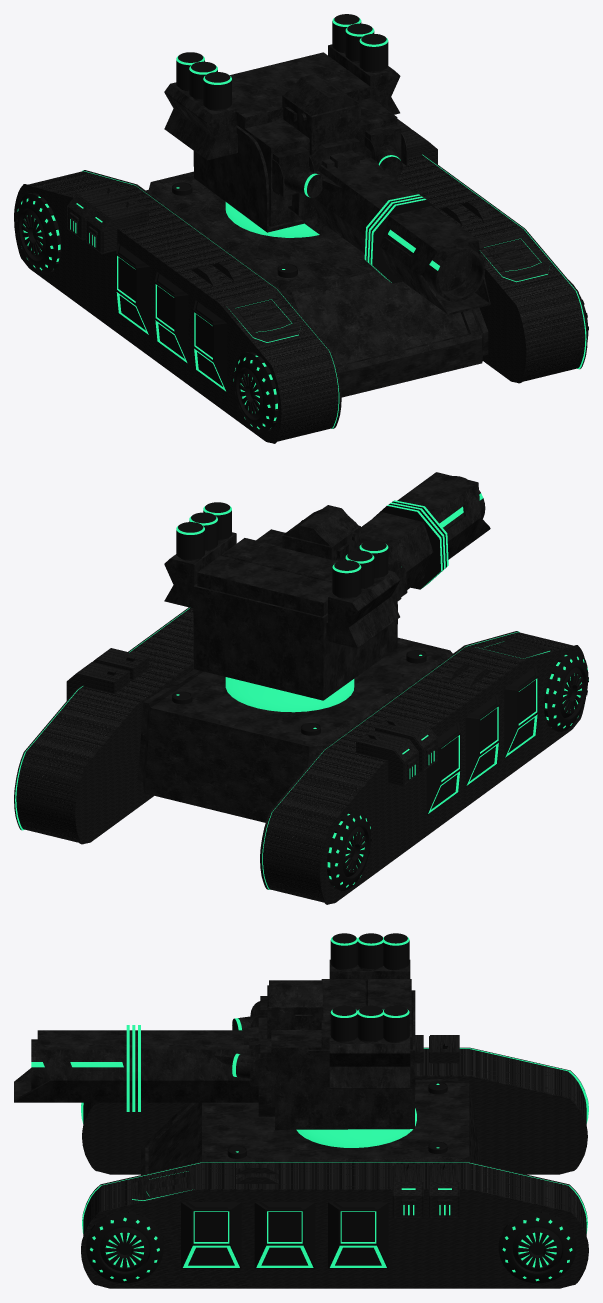
The model's file is robot.glb.
3 renders of one model, top to bottom at view 1: azimuth 30°, elevation 25°; view 2: azimuth 150°, elevation 25°; view 3: azimuth 270°, elevation 25°, orthographic. The views are drawn at different scales.
Visible parts, largest first — view 1: Cylinder.014; view 2: Cylinder.014; view 3: Cylinder.014.
Boxes of the visible parts, x1,y1,x2,y2 form: Cylinder.014: (14,14,588,443); Cylinder.014: (14,472,588,904); Cylinder.014: (14,933,588,1288).
Size of the model in its own units: 4.64 by 3.34 by 7.16.
3 materials, 1 textured.
